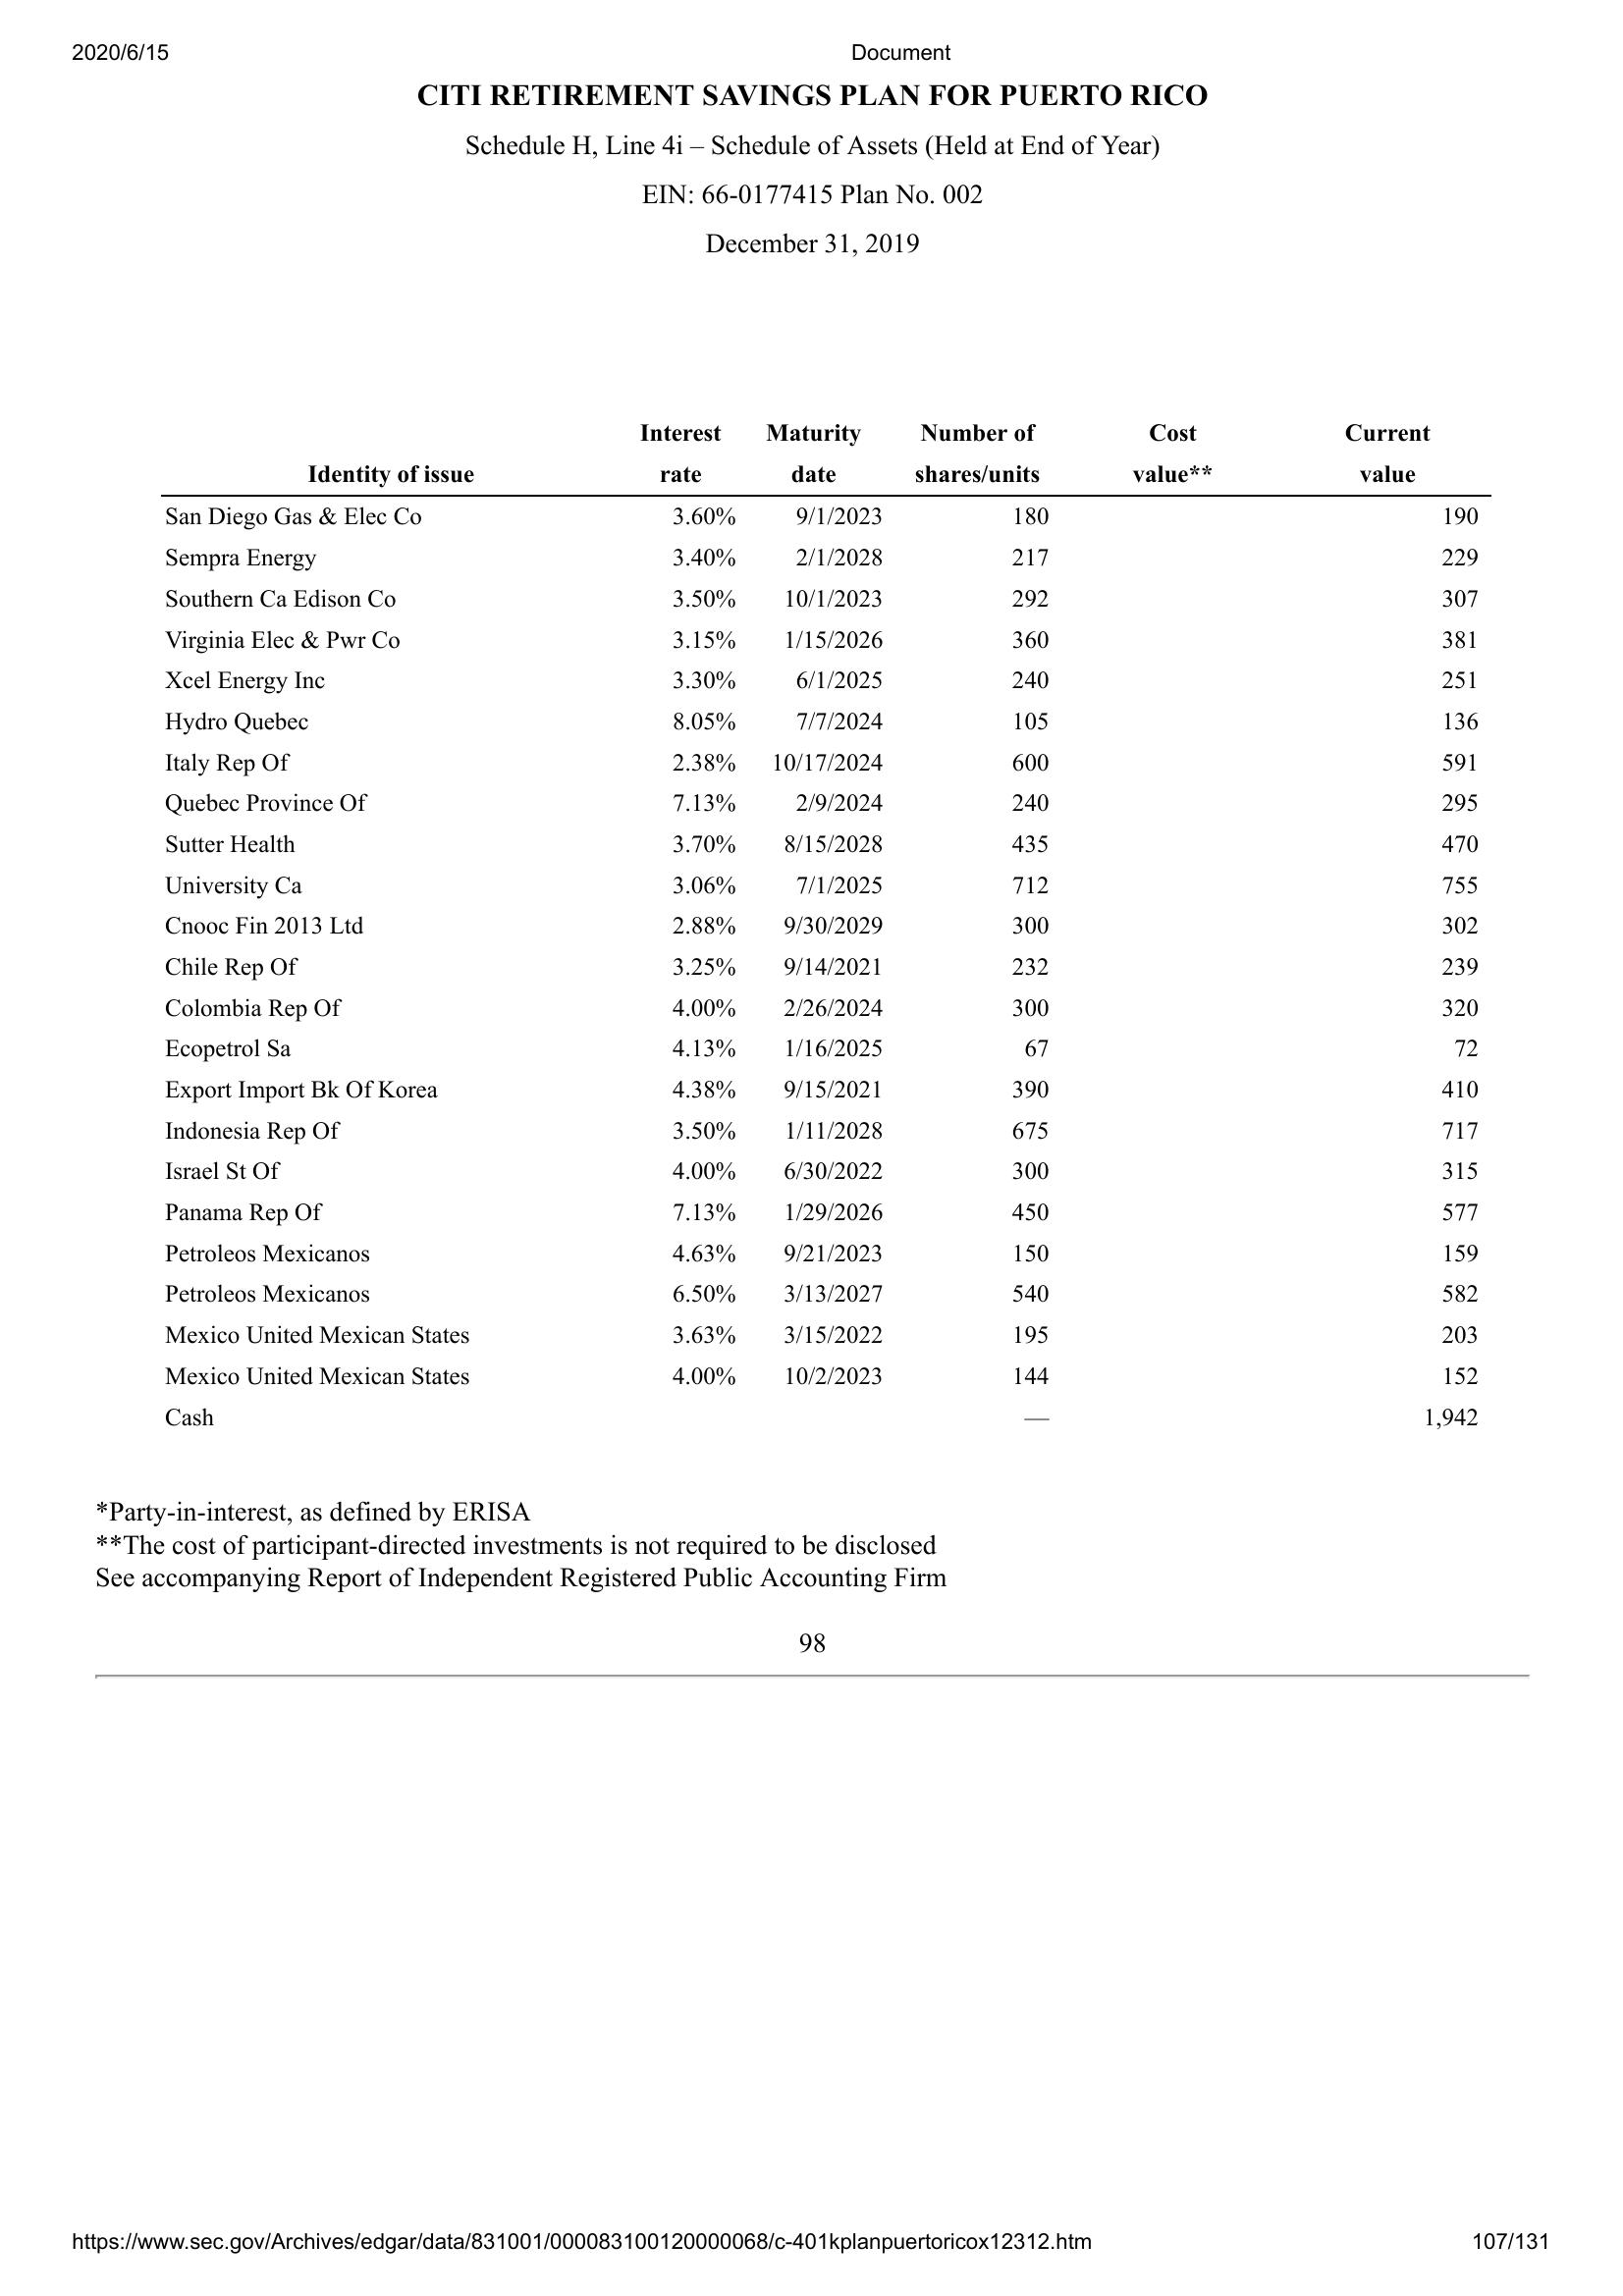table: (162, 418, 1498, 1439)
